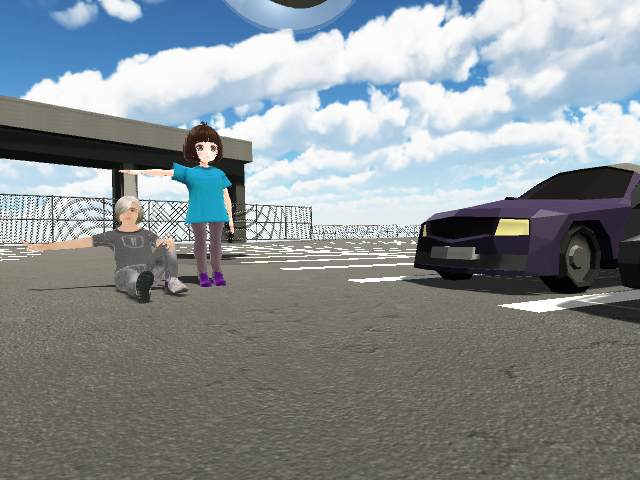doubleP_left: (19, 120, 236, 304)
